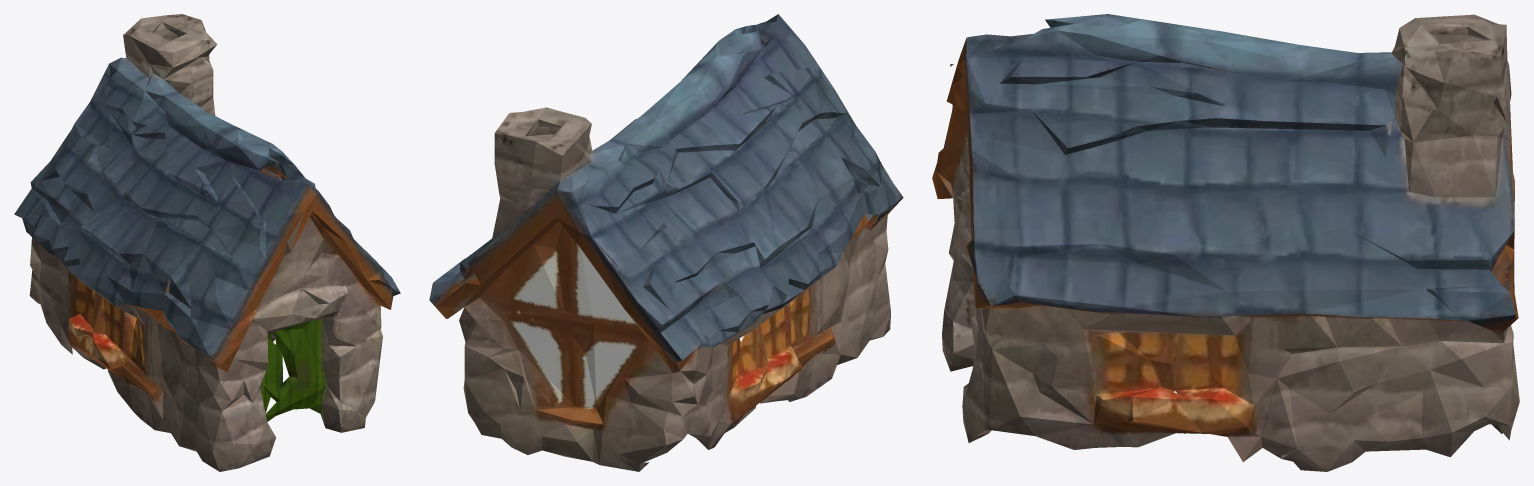
The model's file is cottage-stone.glb.
3 views of the same model, side by side, from view 1: azimuth 30°, elevation 25°; view 2: azimuth 150°, elevation 25°; view 3: azimuth 270°, elevation 25° (orthographic). The views are drawn at different scales.
Visible parts, largest first — view 1: cottage-stone; view 2: cottage-stone; view 3: cottage-stone.
Part boxes in pixels (x1,y1,x2,y2): cottage-stone: (14, 14, 400, 471); cottage-stone: (429, 14, 903, 471); cottage-stone: (932, 14, 1519, 471).
Bounding box in the file's own units: 5.52 × 6.18 × 8.06.
1 material, 1 textured.
